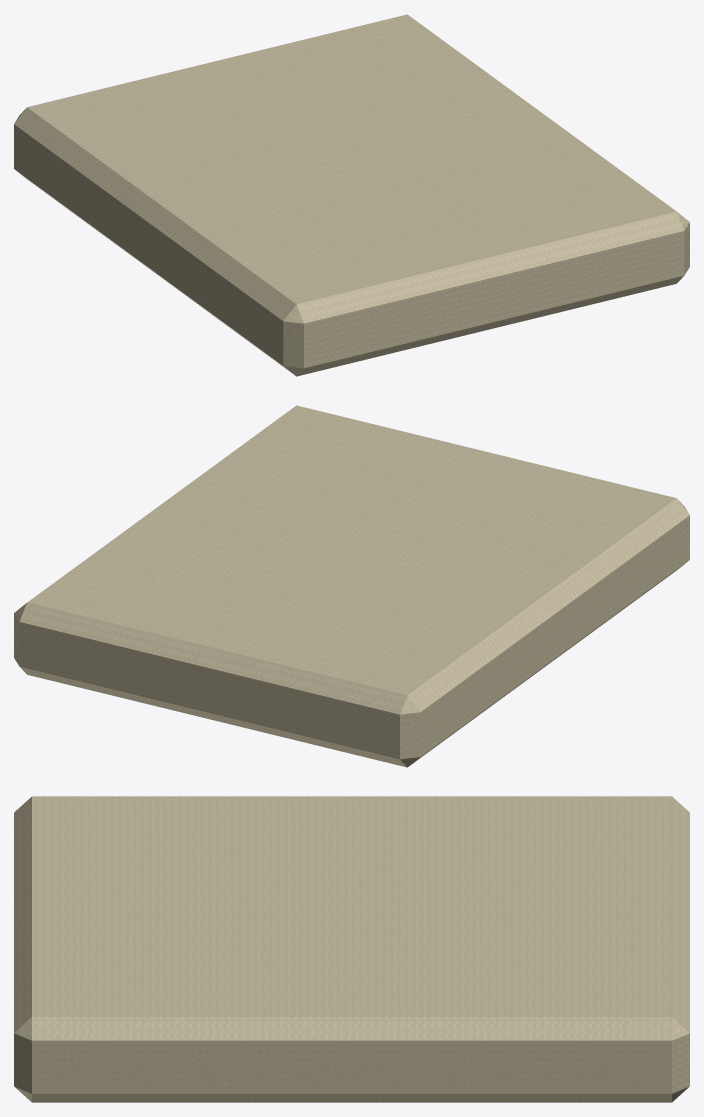
The model's file is MD_73_Mattress.fbx.
3 views of the same model, one above another, from view 1: azimuth 30°, elevation 25°; view 2: azimuth 150°, elevation 25°; view 3: azimuth 270°, elevation 25° (orthographic). The views are drawn at different scales.
Visible parts, largest first — view 1: MD_73_Mattress_mattress; view 2: MD_73_Mattress_mattress; view 3: MD_73_Mattress_mattress.
Part boxes in pixels (box(x1,y1,x2,y2)): MD_73_Mattress_mattress: box(14, 14, 689, 376); MD_73_Mattress_mattress: box(14, 405, 689, 767); MD_73_Mattress_mattress: box(14, 796, 689, 1102).
Size of the model in its own units: 1.65 by 0.28 by 2.
Materials: 1 (1 with a texture image).
